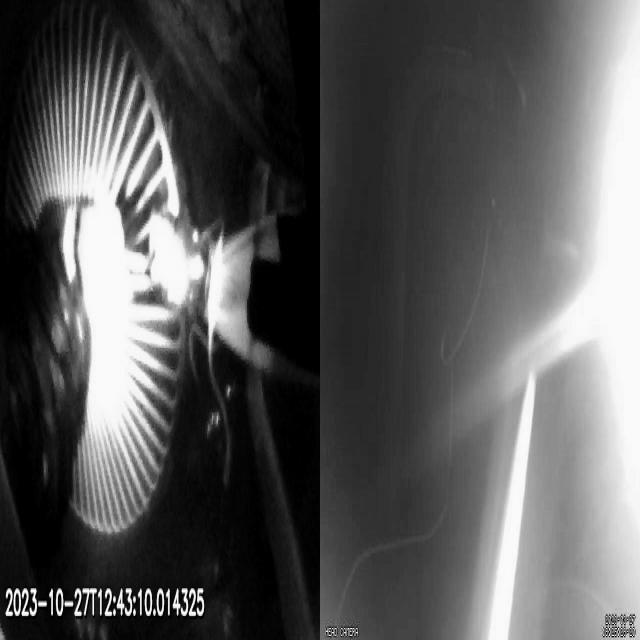head: (63, 198, 126, 290)
